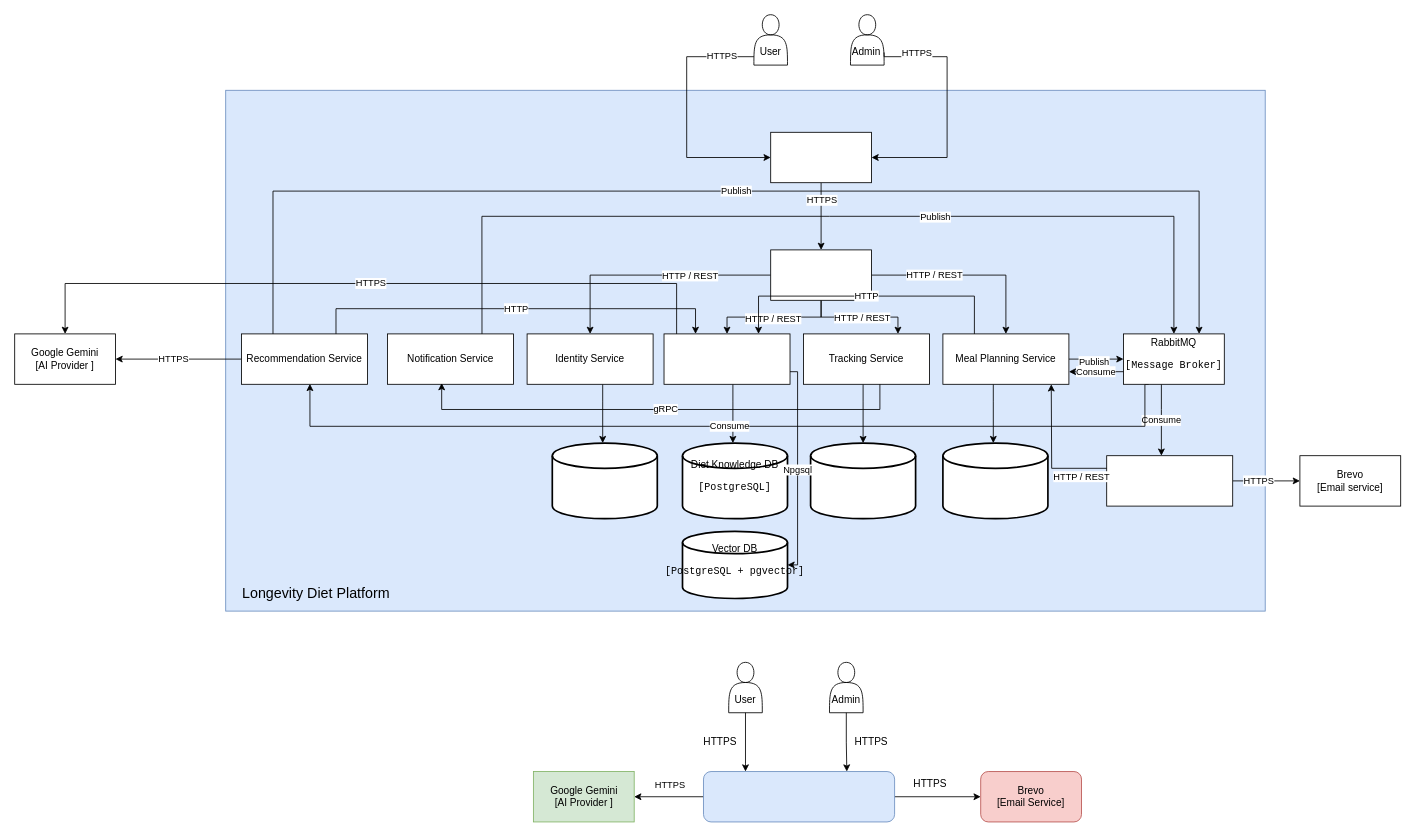
This 1415x837 diagram has some shape labels left out. Here are the shapes that lost their labels. From the top down, the centre of each, then its label:
At (x=821, y=157): "Web application".
At (x=821, y=274): "API Gateway".
At (x=726, y=358): "Diet Knowledge Service".
At (x=604, y=480): "Identity DB [PostgreSQL]".
At (x=862, y=480): "Tracking DB [PostgreSQL]".
At (x=995, y=480): "Meal Planning DB [PostgreSQL]".
At (x=1169, y=480): "NotificationWorker [.NET Worker Service]".
At (x=799, y=796): "Longevity Diet Platform [System]".
